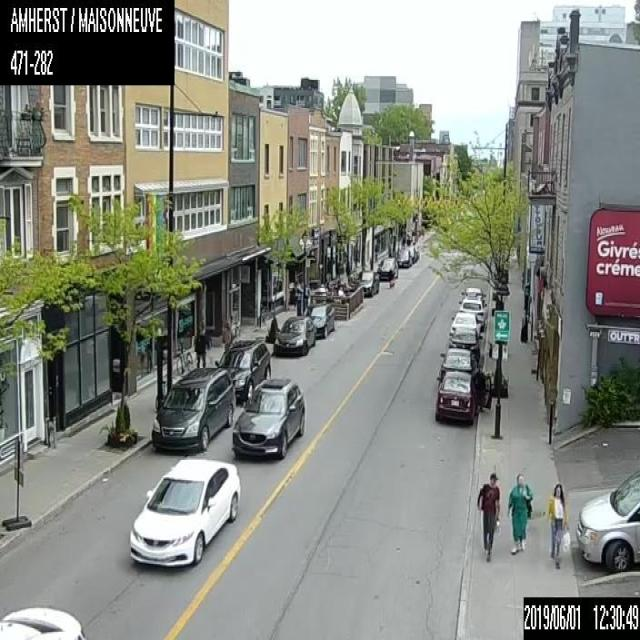pedestrian: (504, 469, 532, 556), (544, 481, 570, 571), (475, 470, 500, 562), (193, 318, 210, 370), (474, 366, 484, 416), (220, 318, 233, 350), (268, 311, 279, 344), (338, 286, 344, 297)
vehicle: (128, 456, 239, 568), (150, 366, 234, 454), (573, 467, 639, 573), (232, 378, 303, 458), (214, 339, 270, 399), (434, 370, 492, 426), (0, 604, 86, 638), (272, 315, 316, 356), (438, 348, 480, 378), (303, 302, 335, 337), (448, 330, 479, 359), (458, 298, 486, 329), (450, 312, 480, 337), (356, 270, 378, 294), (377, 256, 397, 280), (461, 286, 484, 302), (396, 248, 410, 268), (404, 245, 416, 262), (412, 244, 419, 257)
